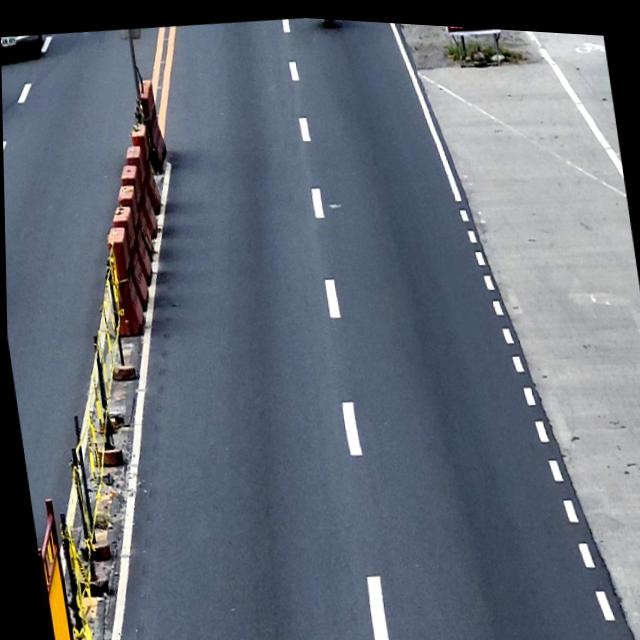Car: (1, 31, 45, 68)
License-Plate: (1, 35, 16, 48)
